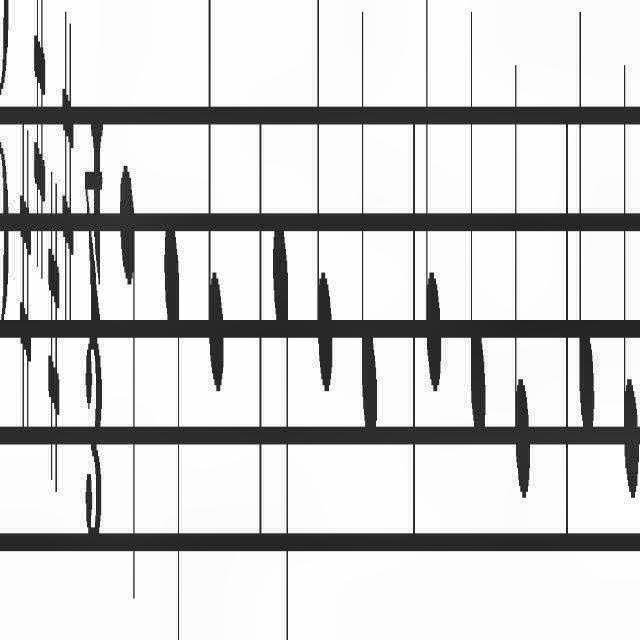Diez: (44, 178, 62, 542), (14, 112, 34, 432), (32, 0, 48, 362), (61, 14, 77, 373)
Quarter-note: (154, 207, 189, 640), (266, 184, 294, 640), (510, 49, 534, 563), (200, 1, 228, 440), (356, 0, 380, 504), (619, 0, 640, 563), (574, 14, 598, 490), (419, 0, 444, 444), (310, 0, 336, 420), (466, 11, 490, 462), (118, 136, 138, 640), (639, 0, 640, 563)
